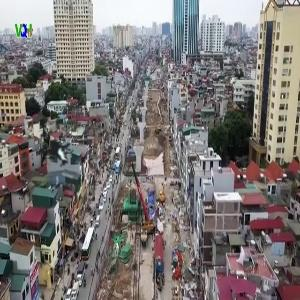drone: (6, 104, 100, 198)
